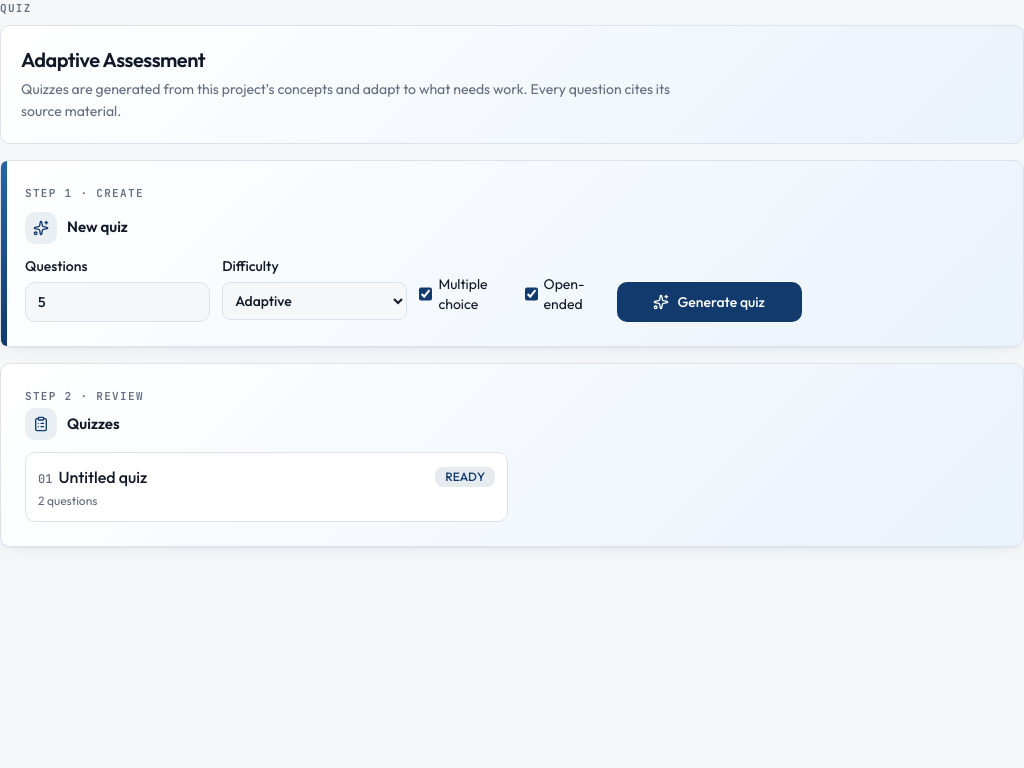
Test case: QuizSection › creates a quiz and shows learner-safe questions
The image size is (1024, 768).
Click the button "Generate quiz" at (709, 302), box left=617, top=282, right=802, bottom=322
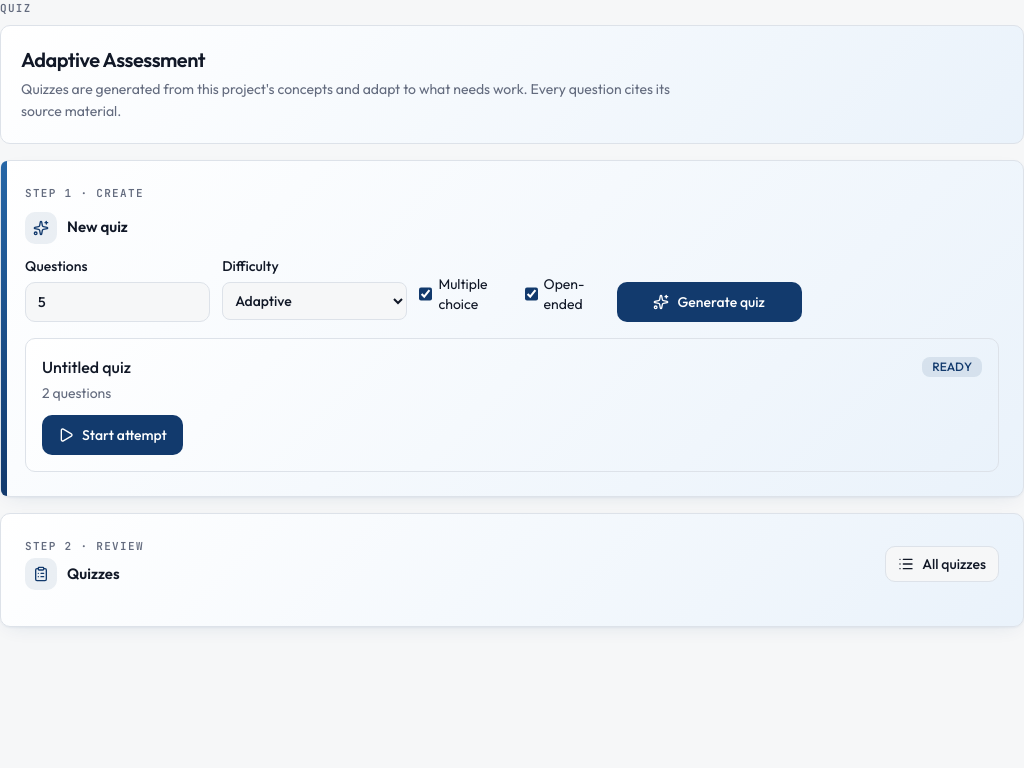
Expected: the button "Start attempt" is shown
Click the button "Start attempt" at (112, 434), box left=42, top=414, right=183, bottom=454
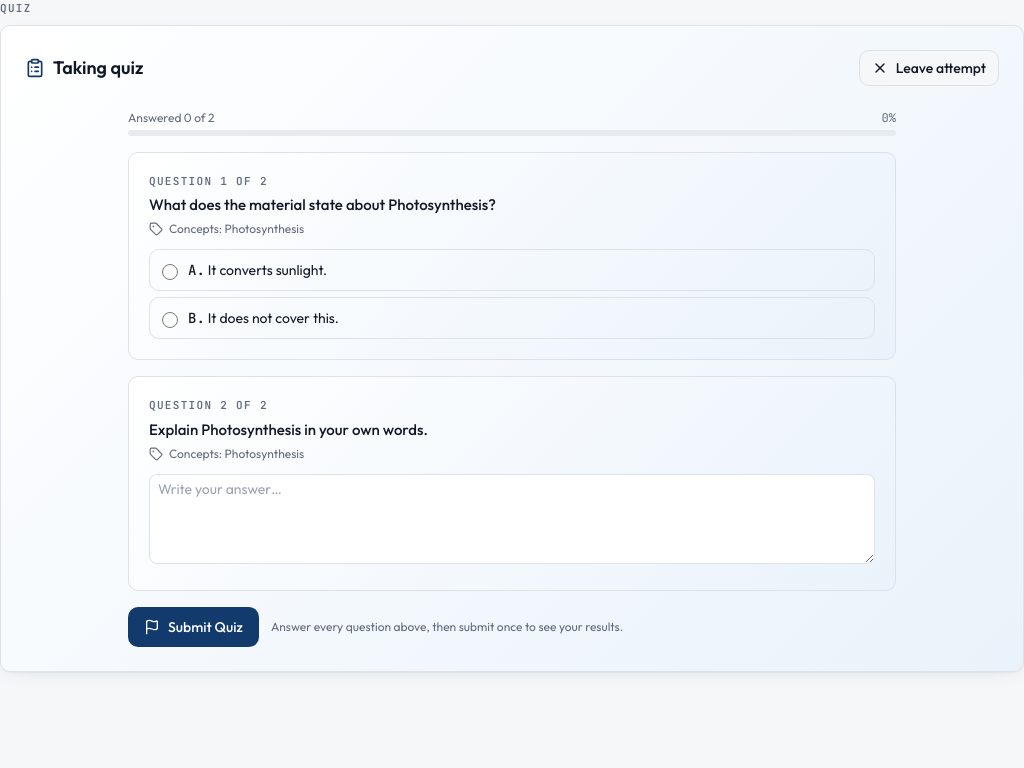
Expected: the text "What does the material state about Photosynthesis?" is shown, left=149, top=193, right=496, bottom=217
Expected: the text "It converts sunlight." is shown, left=208, top=261, right=327, bottom=279
